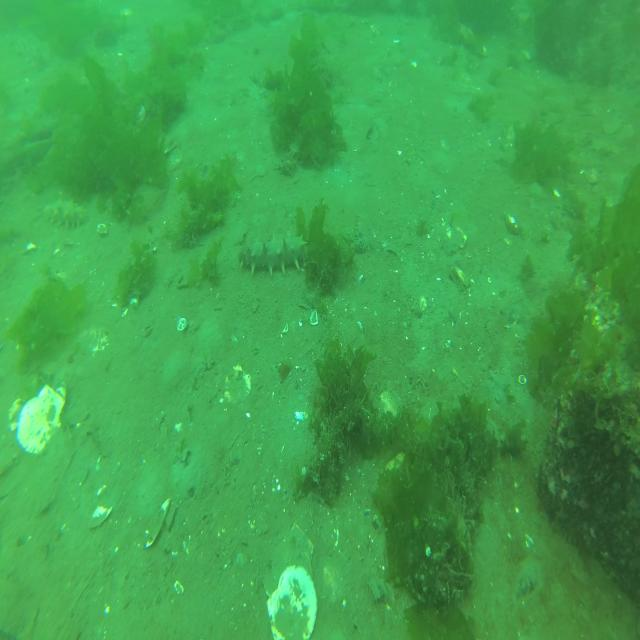holothurian: (238, 231, 308, 273), (43, 196, 89, 232), (17, 42, 53, 67)
scallop: (266, 566, 319, 640), (18, 383, 66, 457), (273, 521, 313, 577), (224, 362, 252, 407), (432, 225, 466, 261), (147, 498, 169, 548), (78, 329, 109, 360), (462, 22, 487, 56), (8, 398, 21, 431), (95, 33, 118, 47)
